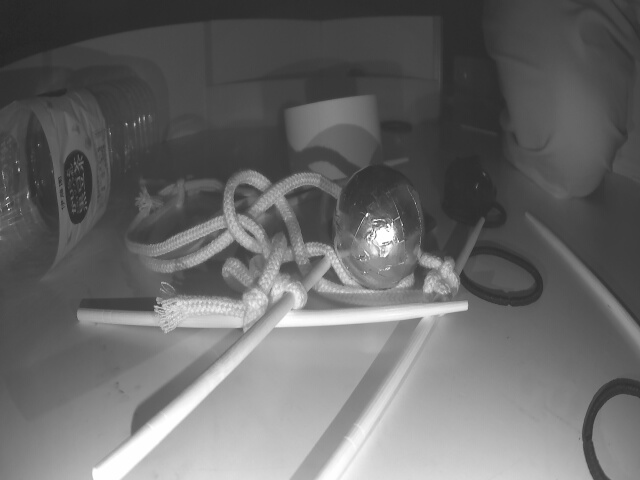Dead: (447, 157, 498, 225)
Live: (330, 160, 425, 283)
Point: (208, 78, 437, 130)
